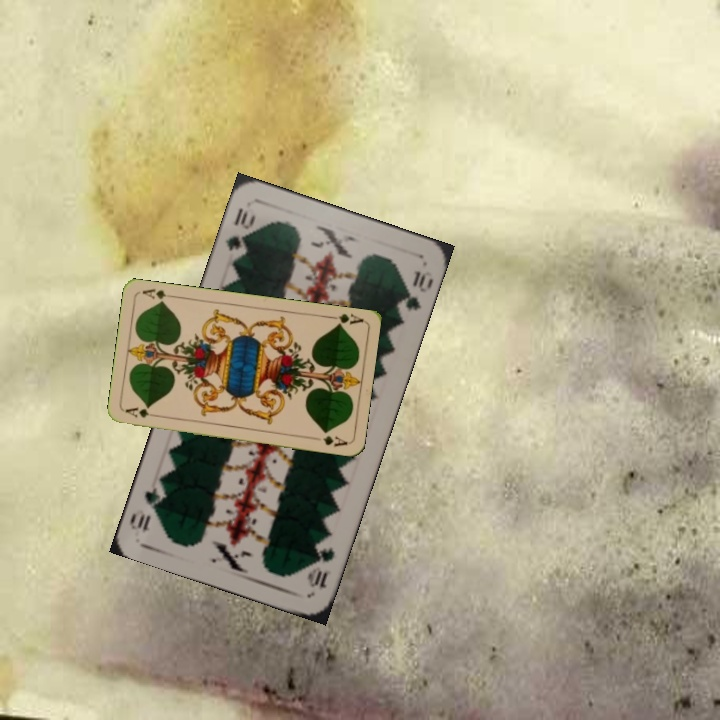G10: (304, 534, 338, 591), (222, 203, 258, 254)
GA: (324, 309, 365, 329), (122, 403, 162, 420)
